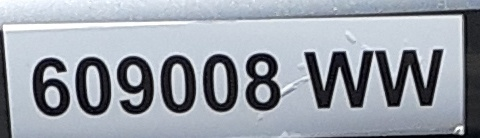0: (72, 51, 115, 120), (199, 50, 241, 114), (157, 50, 198, 115)
6: (25, 53, 74, 122)
8: (241, 48, 281, 113)
9: (114, 50, 154, 117)
w: (299, 45, 373, 113), (375, 44, 448, 109)
